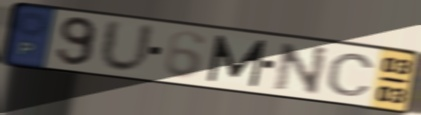6: (162, 29, 208, 81)
9: (54, 15, 100, 68)
C: (325, 51, 378, 98)
M: (205, 33, 270, 89)
N: (272, 41, 332, 97)
U: (97, 17, 158, 76)
